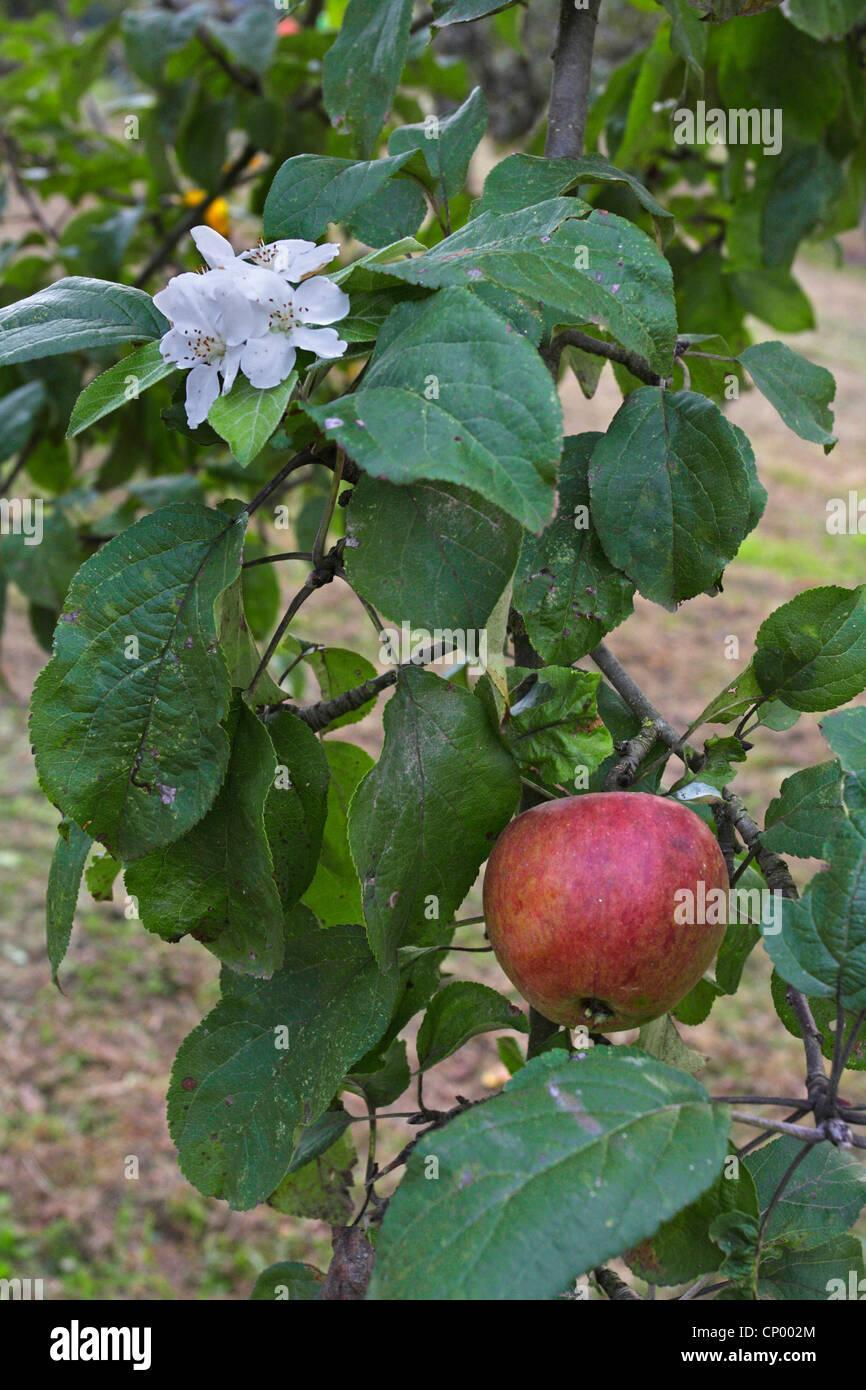apple: (481, 791, 734, 1034)
